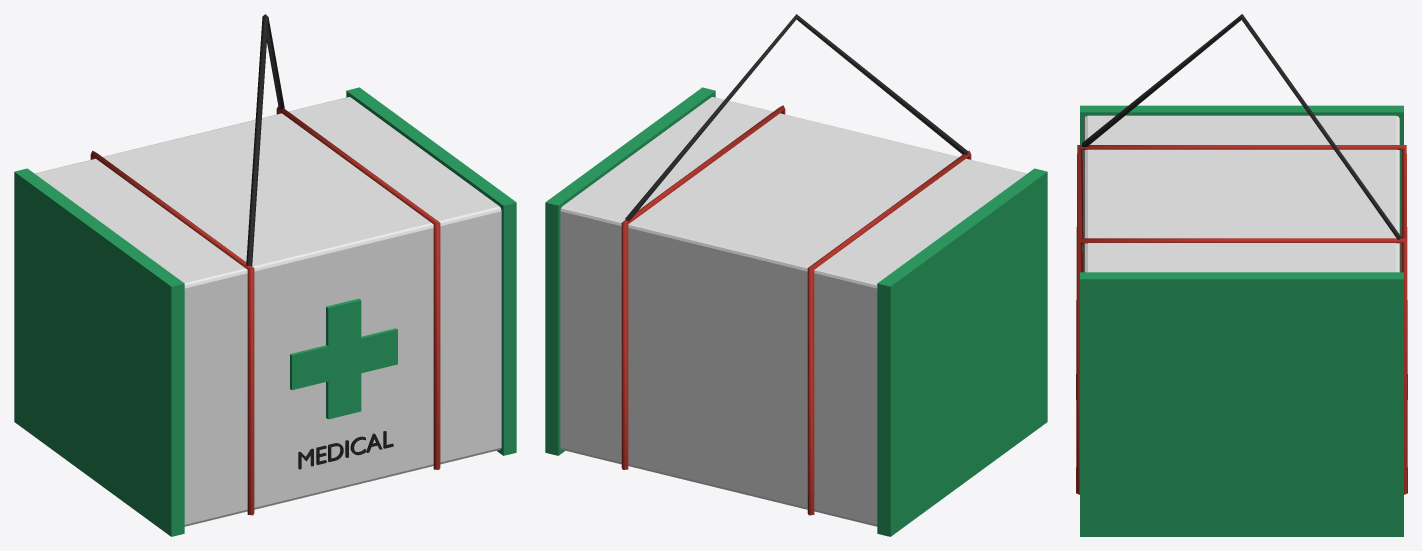
File: crate-medicine.glb
3 views of the same model, side by side, from view 1: azimuth 30°, elevation 25°; view 2: azimuth 150°, elevation 25°; view 3: azimuth 270°, elevation 25° (orthographic). The views are drawn at different scales.
Parts seen in each view (by area): view 1: crate-medicine; view 2: crate-medicine; view 3: crate-medicine.
Part boxes in pixels (x1,y1,x2,y2): crate-medicine: (14,14,516,536); crate-medicine: (545,14,1047,536); crate-medicine: (1076,14,1407,536).
Bounding box in the file's own units: 1.04 × 1.22 × 0.84.
